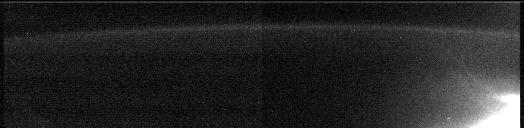negative: (493, 93, 519, 108)
